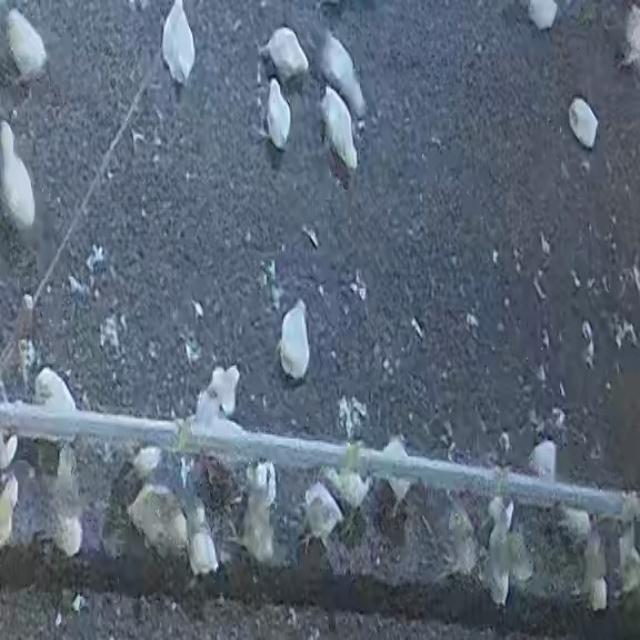chicken: (130, 481, 190, 561), (316, 28, 366, 117), (0, 118, 37, 237), (270, 292, 315, 380), (49, 446, 83, 556), (317, 90, 359, 172), (184, 494, 224, 576), (4, 7, 48, 81), (196, 357, 244, 424), (161, 0, 197, 85), (262, 25, 310, 84), (302, 481, 344, 547), (238, 493, 274, 562), (379, 436, 414, 504), (33, 366, 78, 417), (582, 528, 608, 608), (264, 77, 292, 150), (566, 94, 602, 149)
